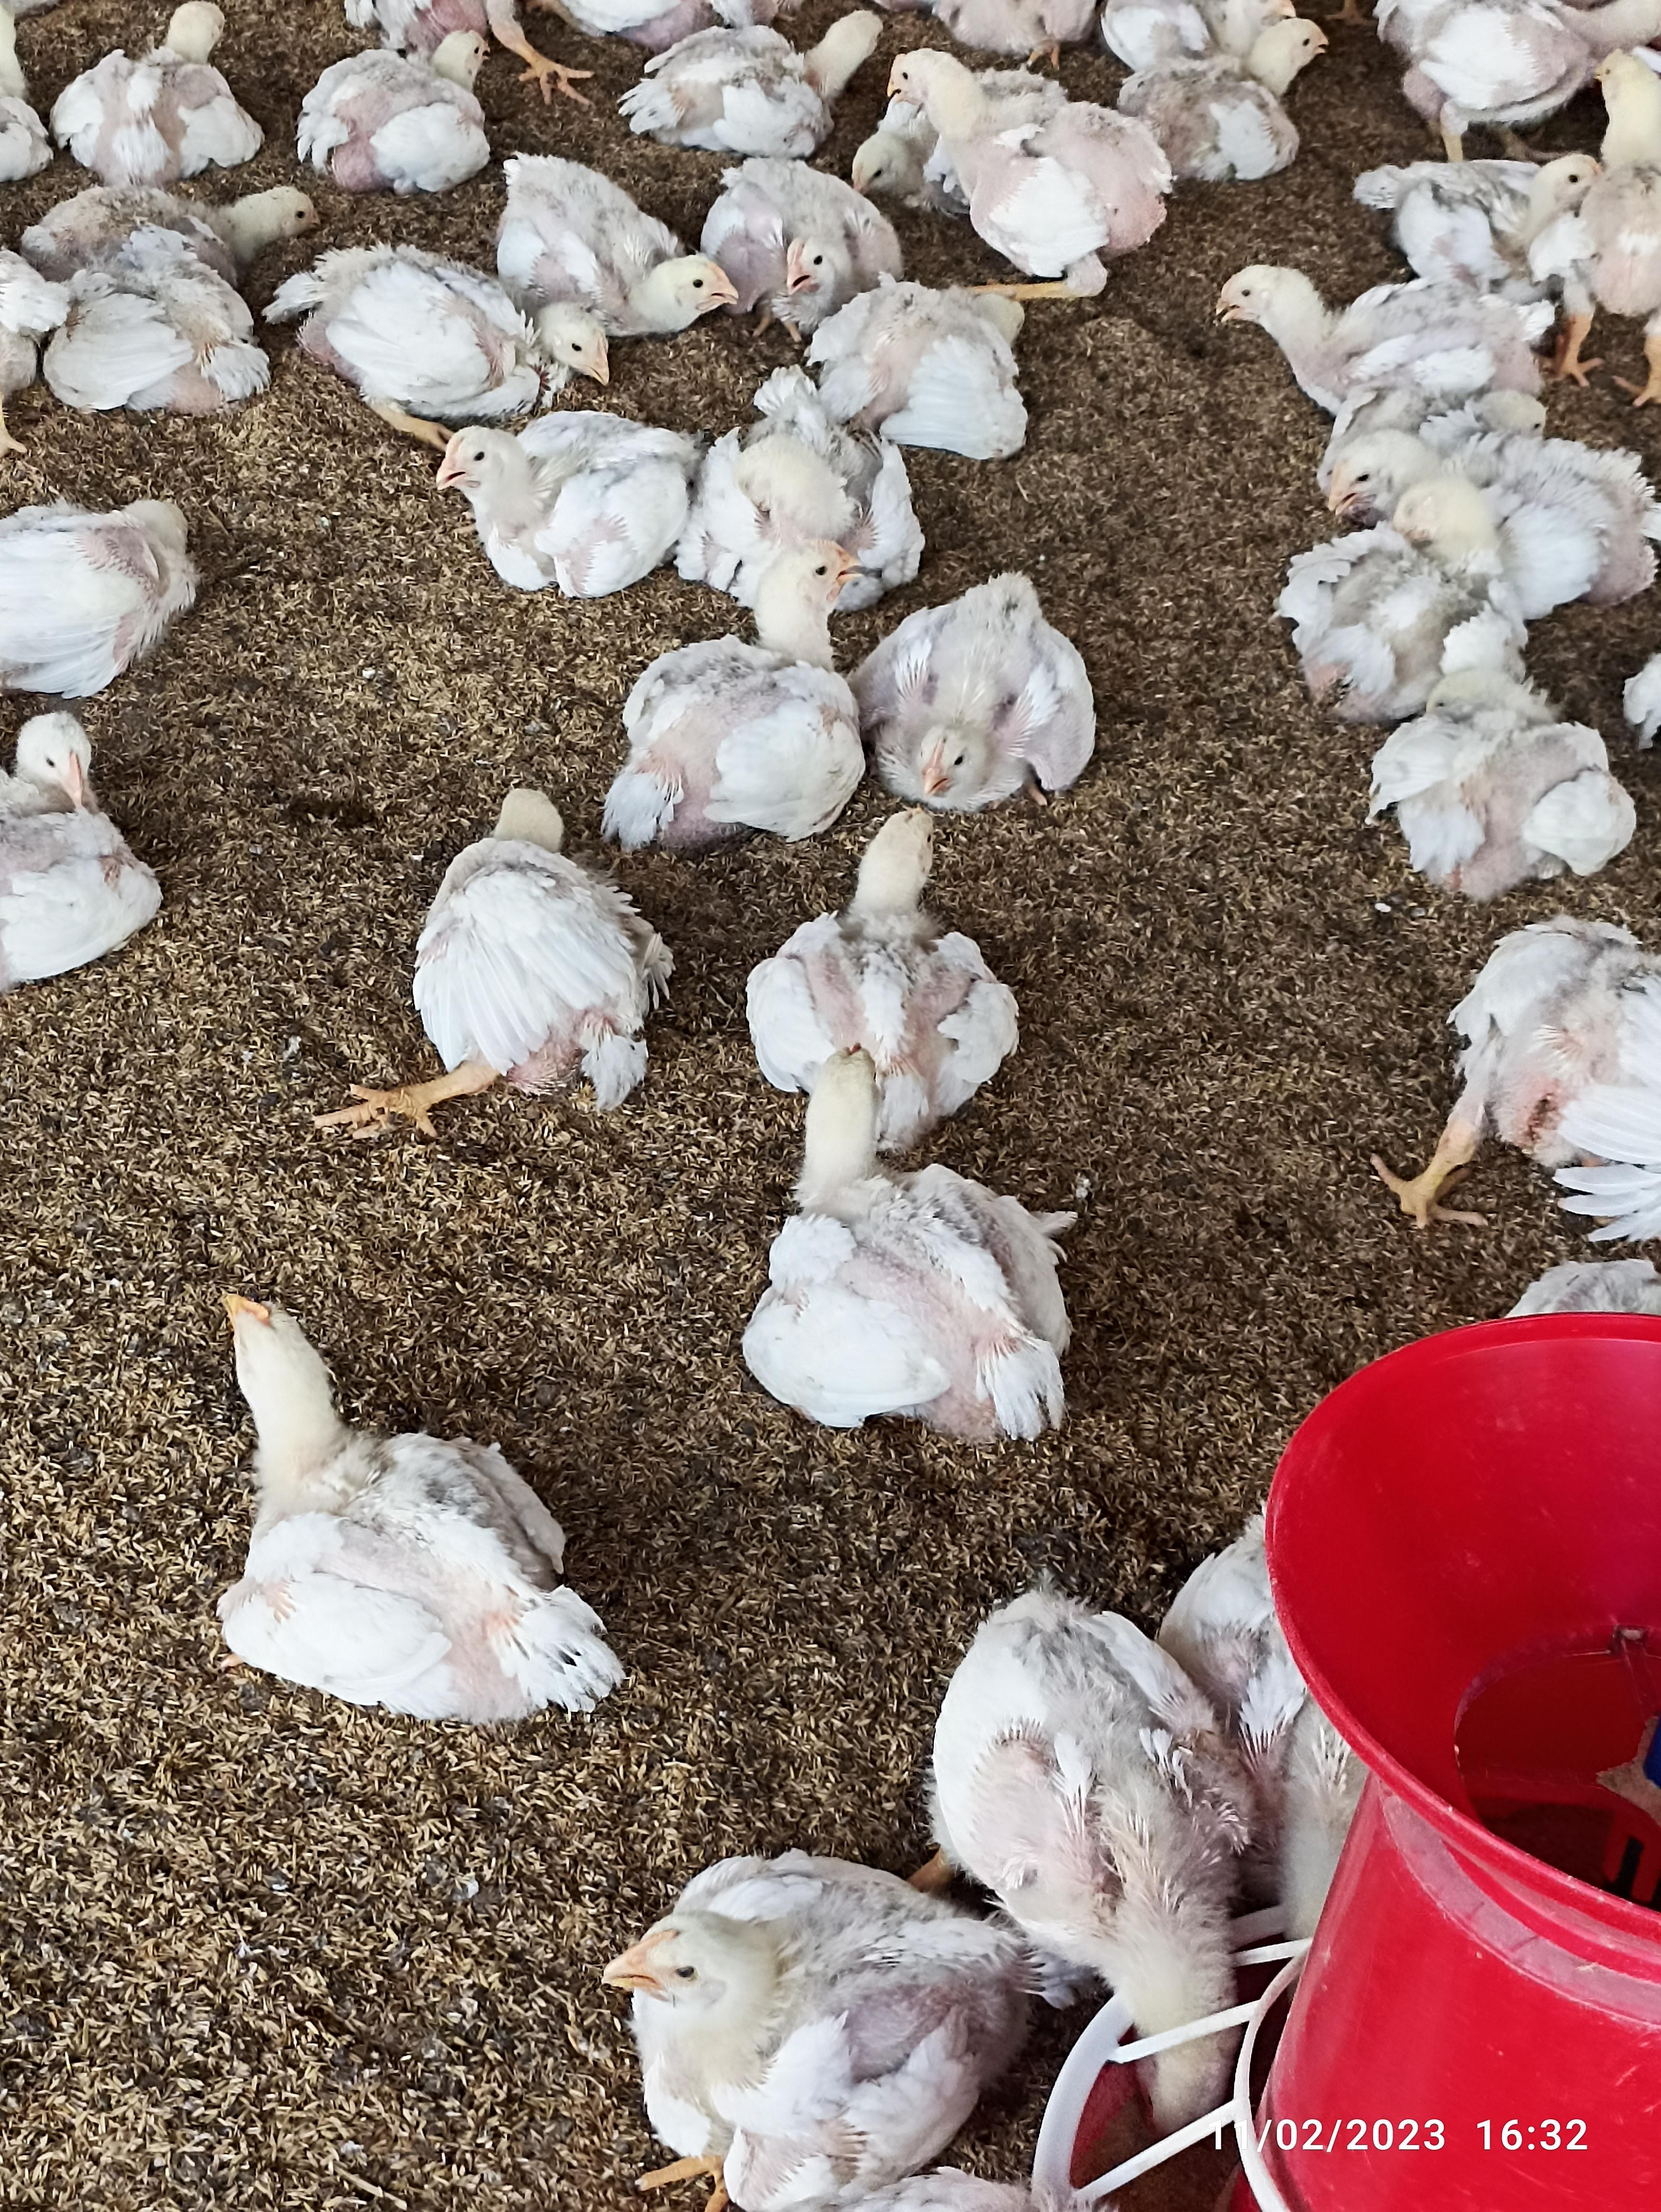Pollos: (229, 1291, 619, 1739), (612, 1847, 1010, 2191), (721, 1066, 1078, 1427), (768, 806, 1000, 1120), (407, 782, 649, 1080), (883, 40, 1183, 279), (612, 532, 858, 820), (1300, 431, 1661, 593), (872, 567, 1094, 799), (291, 246, 612, 401), (427, 405, 684, 581), (305, 21, 501, 181), (1227, 260, 1448, 387), (717, 162, 909, 304), (572, 220, 733, 344)
